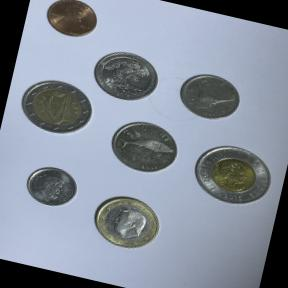1 Euro-B: (78, 182, 174, 262)
2 Euro-B: (8, 69, 100, 145)
Canada-10cent-B: (16, 154, 87, 216)
Canada-2Dollar-B: (182, 129, 288, 221)
Croatia-2Kune-B: (97, 110, 192, 190)
US-1cent-B: (32, 0, 111, 50)
US-25cent-B: (83, 40, 169, 110)
